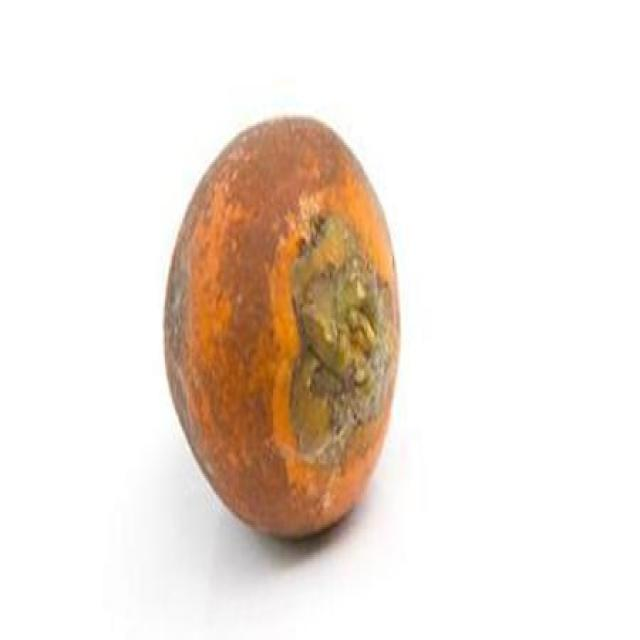good: (161, 117, 405, 542)
